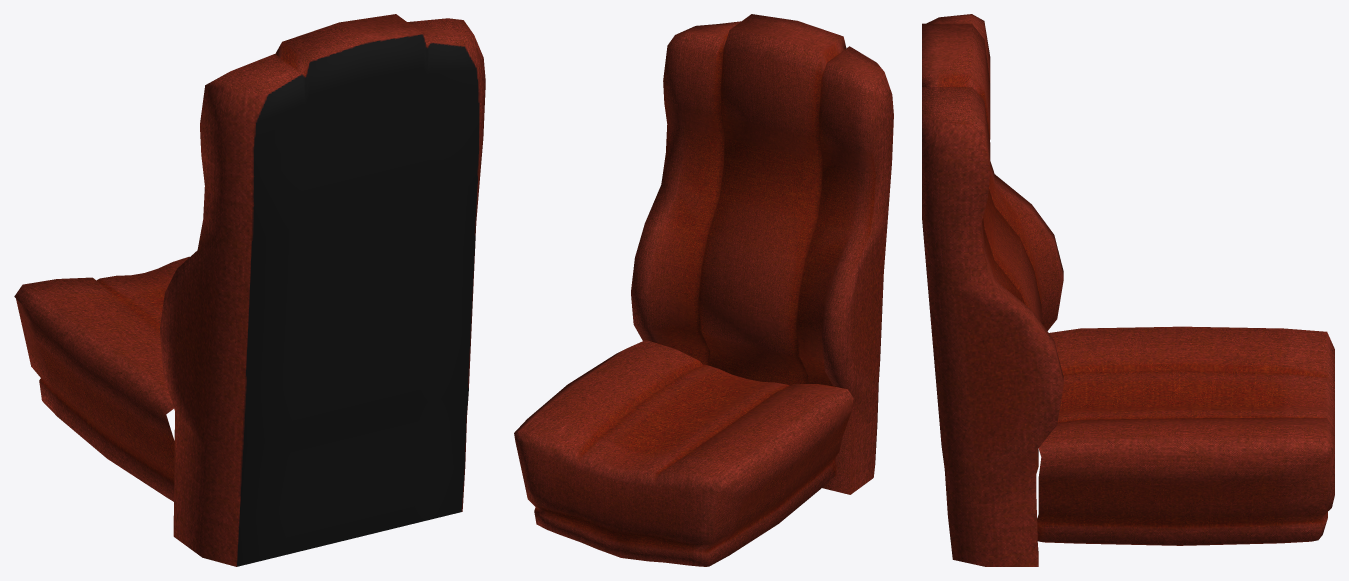
The model's file is seat_ms.glb.
The picture shows the model from 3 angles, left to right: view 1: azimuth 30°, elevation 25°; view 2: azimuth 150°, elevation 25°; view 3: azimuth 270°, elevation 25°; orthographic projection. The views are drawn at different scales.
Parts seen in each view (by area): view 1: Seat.002; view 2: Seat.002; view 3: Seat.002.
Boxes of the visible parts, x1,y1,x2,y2 form: Seat.002: (14, 14, 485, 566); Seat.002: (514, 14, 893, 566); Seat.002: (922, 14, 1334, 566).
Size of the model in its own units: 0.54 by 0.9192 by 0.7393.
Materials: 1 (1 with a texture image).
